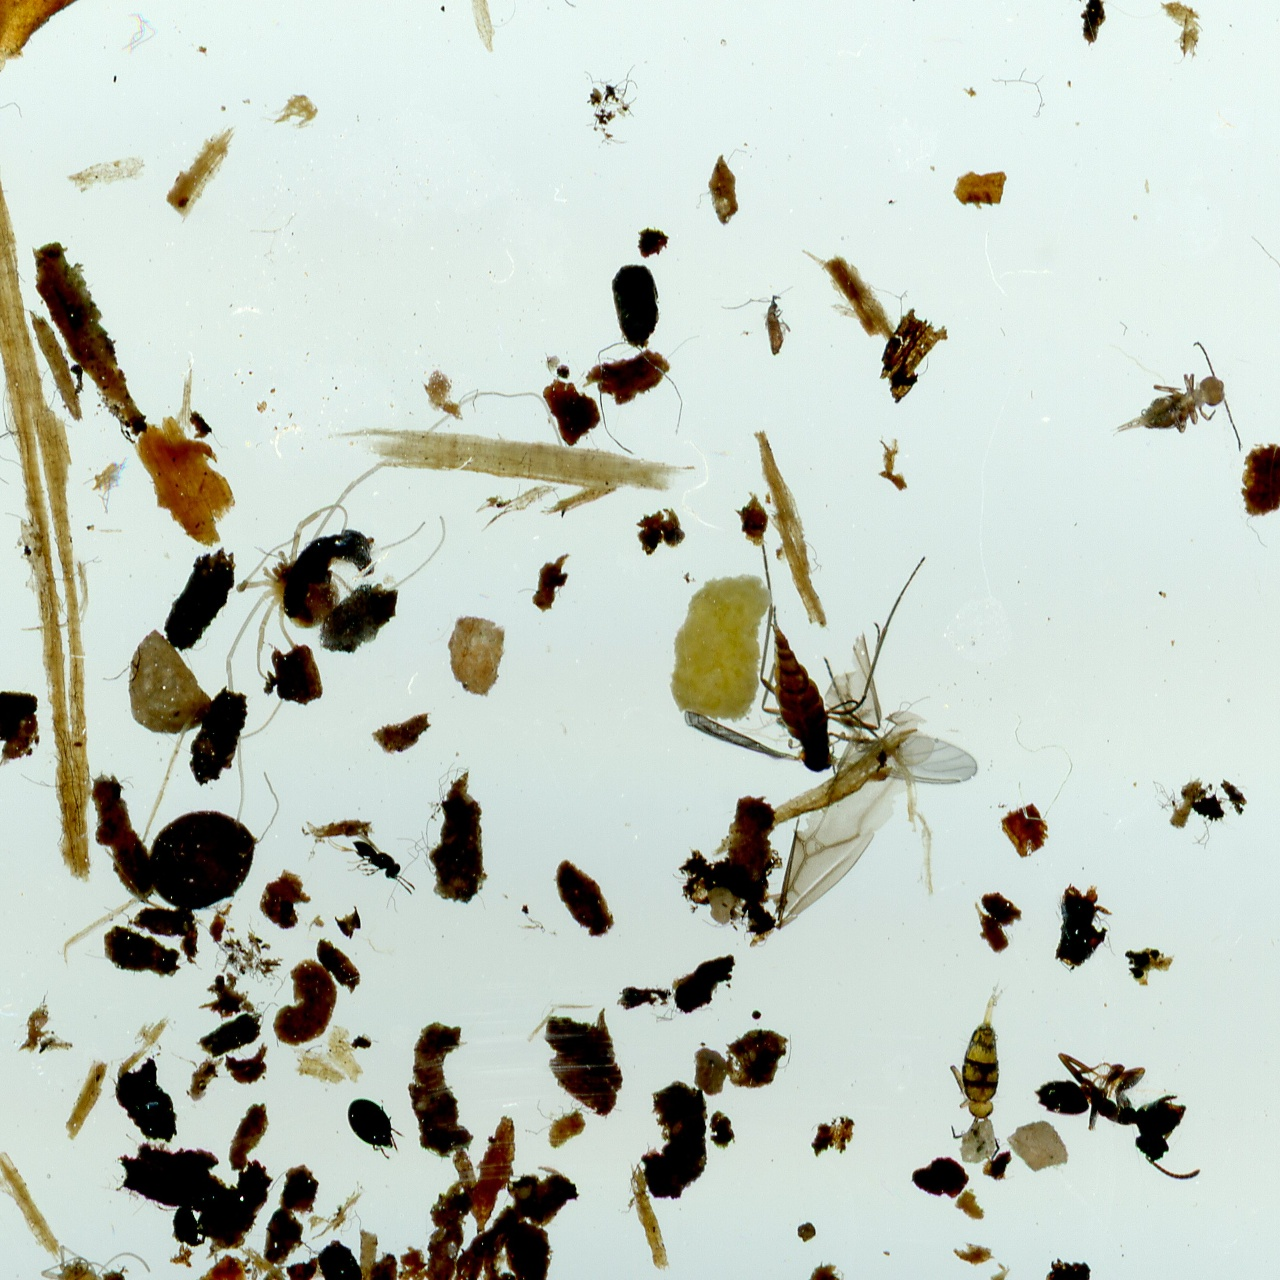arthropod: (94, 308, 619, 857), (755, 537, 930, 784), (1019, 1040, 1225, 1189), (1083, 332, 1253, 497), (946, 973, 1012, 1166), (316, 813, 429, 912), (6, 1241, 202, 1280), (343, 1094, 407, 1164), (761, 291, 795, 360)
